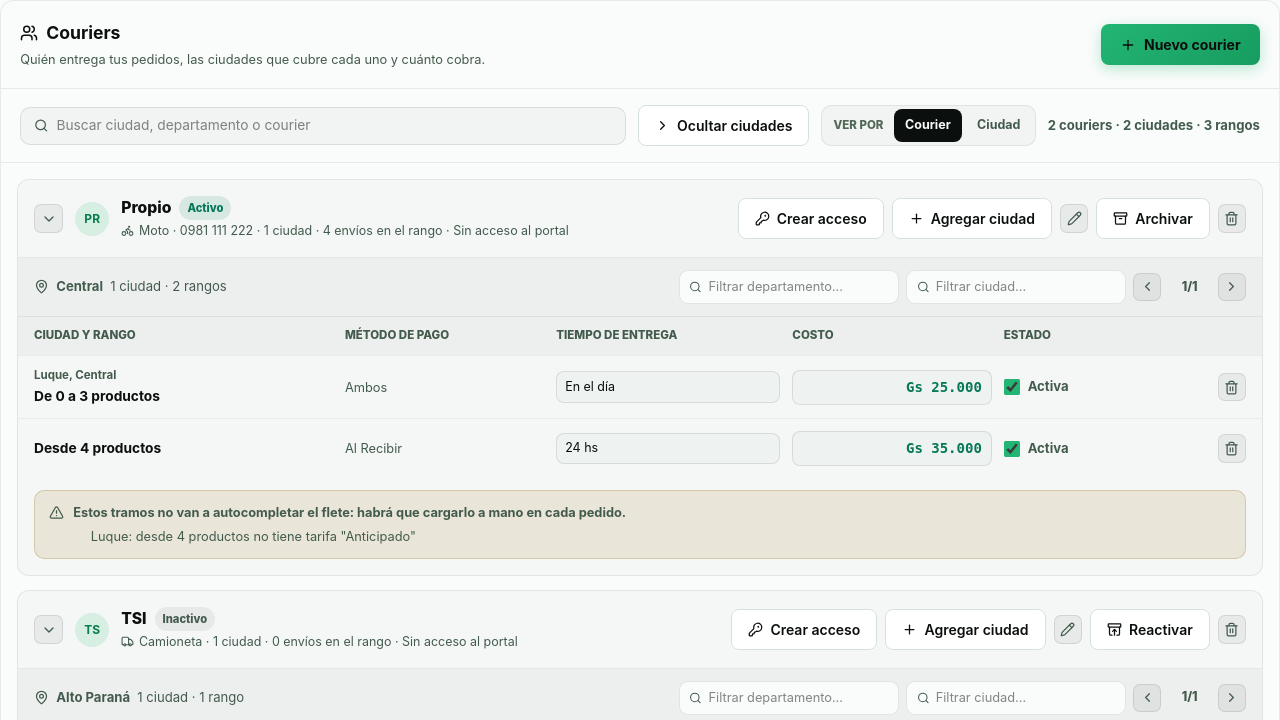
Scenario: la barra de cambios aparece solo al retocar una tarifa en la grilla
Expected: the text "sin guardar" is not shown
Type "2 hs" into the field named "Tiempo de entrega de Luque" in the row of "De 0 a 3 productos". click: (668,387)
box: [556,371,780,403]
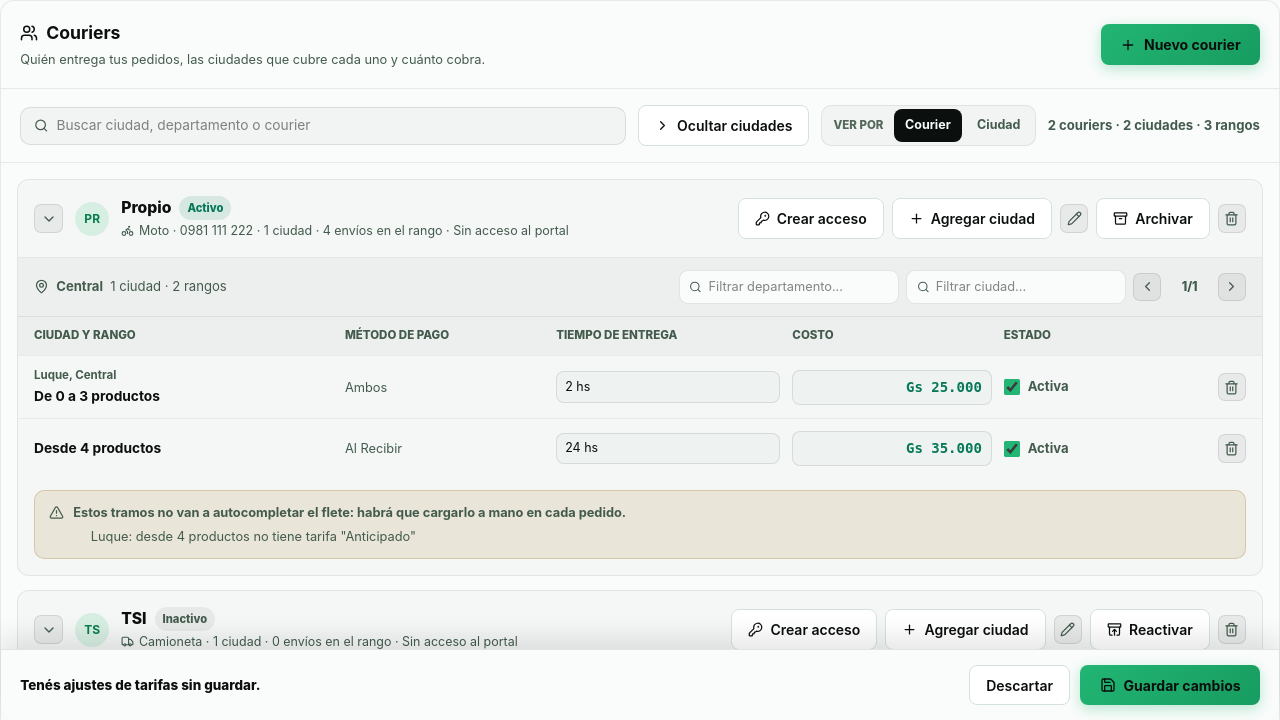
Result: the text "Tenés ajustes de tarifas sin guardar." is shown at [20,675,260,695]
Click the button "Descartar". click: (1020,685)
box: [969,665,1070,706]
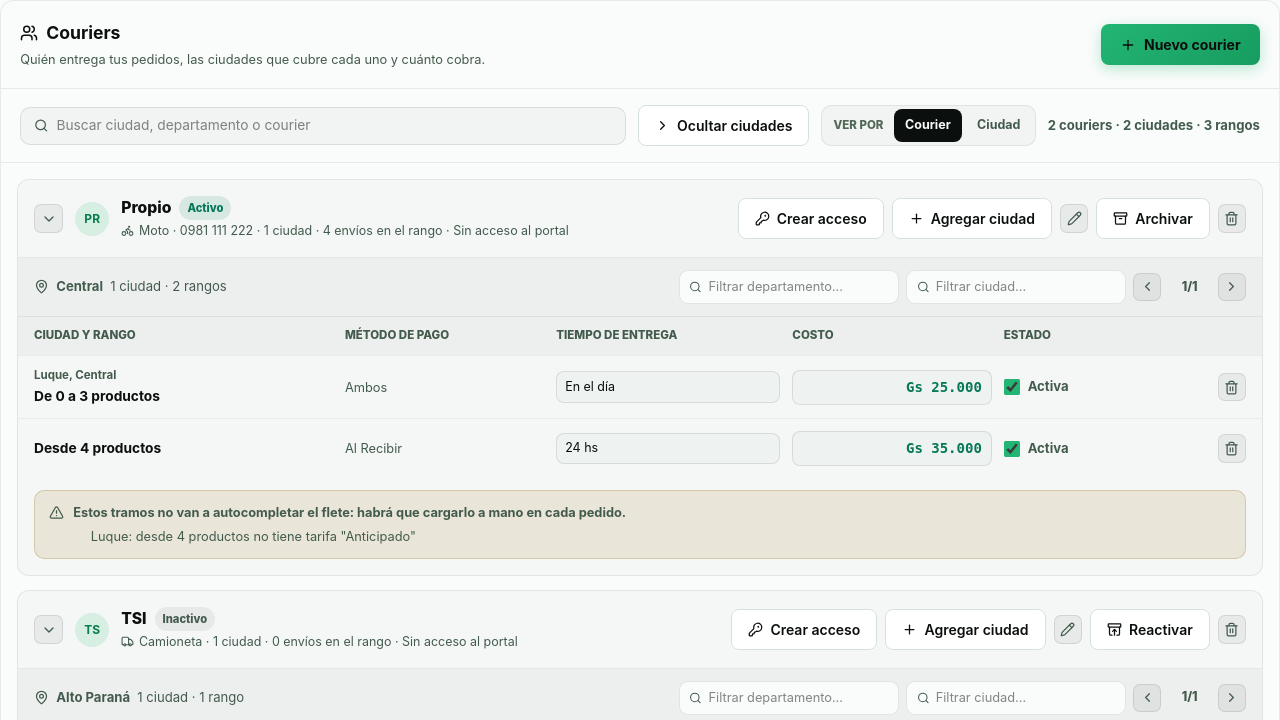
Result: the text "sin guardar" is gone
